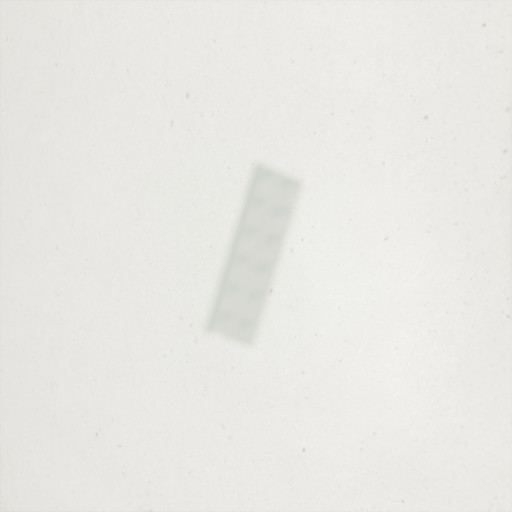lego: (203, 162, 304, 348)
